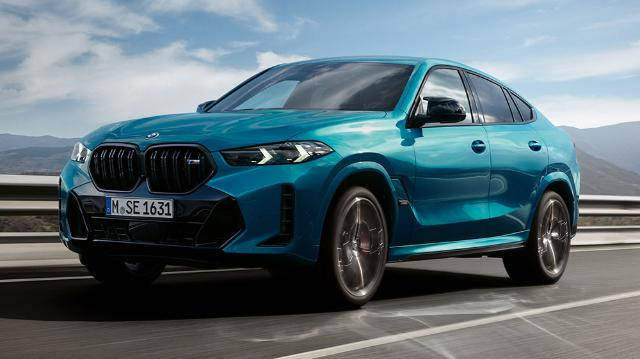bmw: (57, 55, 581, 309)
